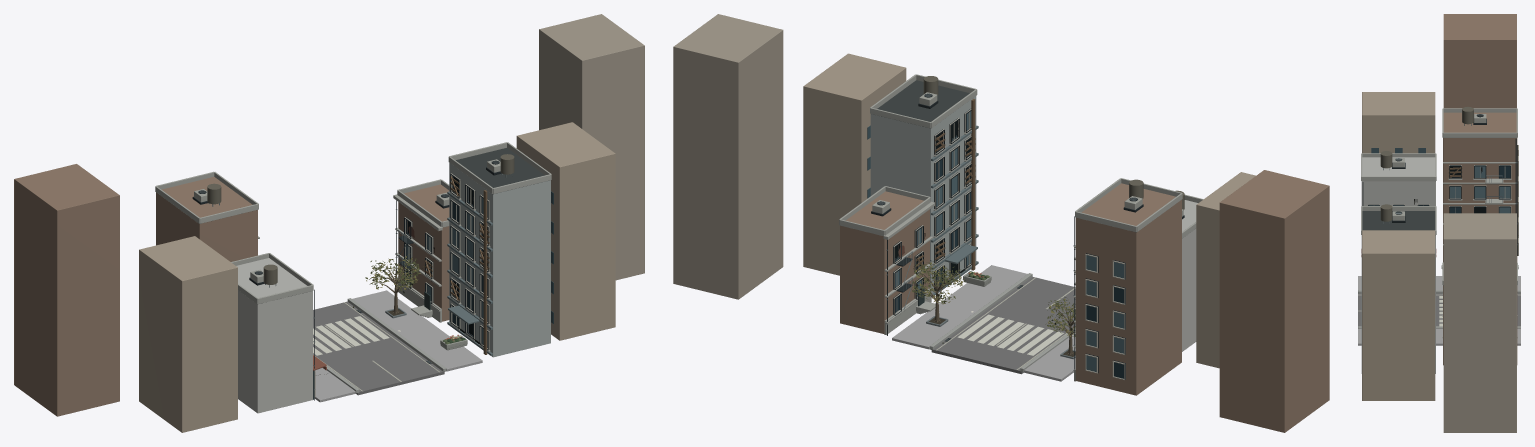
Rendered from city_hd_09.glb.
3 renders of one model, left to right at view 1: azimuth 30°, elevation 25°; view 2: azimuth 150°, elevation 25°; view 3: azimuth 270°, elevation 25°, orthographic. The views are drawn at different scales.
Visible parts, largest first — view 1: CITY_realwall_927d6c, CITY_realwall_a99d8c, CITY_realwall_a49c8e, CITY_realwall_a9b0ae, CITY_realwall_b8b9b4, CITY_trim, CITY_PBR_asphalt, CITY_PBR_pavement, CITY_recess, CITY_frame, CITY_roof, CITY_zebra_paint (+7 smaller); view 2: CITY_realwall_927d6c, CITY_realwall_a49c8e, CITY_realwall_a99d8c, CITY_realwall_a9b0ae, CITY_PBR_asphalt, CITY_trim, CITY_PBR_pavement, CITY_frame, CITY_recess, CITY_glass, CITY_realwall_b8b9b4, CITY_zebra_paint (+7 smaller); view 3: CITY_realwall_a99d8c, CITY_realwall_a49c8e, CITY_realwall_927d6c, CITY_realwall_b8b9b4, CITY_trim, CITY_roof, CITY_glass, CITY_recess, CITY_tank, CITY_frame, CITY_PBR_pavement, CITY_PBR_asphalt (+4 smaller).
Boxes of the visible parts, <box> form: CITY_realwall_927d6c: <box>14,164,449,416</box>; CITY_realwall_a99d8c: <box>139,122,615,432</box>; CITY_realwall_a49c8e: <box>539,14,644,280</box>; CITY_realwall_a9b0ae: <box>449,163,550,357</box>; CITY_realwall_b8b9b4: <box>236,258,312,413</box>; CITY_trim: <box>155,142,551,351</box>; CITY_PBR_asphalt: <box>313,301,444,395</box>; CITY_PBR_pavement: <box>314,290,482,402</box>; CITY_recess: <box>404,173,489,349</box>; CITY_frame: <box>314,173,489,397</box>; CITY_roof: <box>456,148,544,194</box>; CITY_zebra_paint: <box>313,316,389,355</box>; CITY_realwall_927d6c: <box>840,170,1329,432</box>; CITY_realwall_a49c8e: <box>673,14,783,299</box>; CITY_realwall_a99d8c: <box>803,53,1255,368</box>; CITY_realwall_a9b0ae: <box>870,96,976,293</box>; CITY_PBR_asphalt: <box>931,277,1075,374</box>; CITY_trim: <box>839,74,1203,381</box>; CITY_PBR_pavement: <box>892,265,1075,381</box>; CITY_frame: <box>893,109,1125,380</box>; CITY_recess: <box>893,109,1125,379</box>; CITY_glass: <box>892,111,1124,371</box>; CITY_realwall_b8b9b4: <box>1182,200,1197,351</box>; CITY_zebra_paint: <box>957,314,1063,355</box>; CITY_realwall_a99d8c: <box>1362,92,1435,400</box>; CITY_realwall_a49c8e: <box>1443,213,1516,432</box>; CITY_realwall_927d6c: <box>1443,14,1517,365</box>; CITY_realwall_b8b9b4: <box>1361,157,1435,205</box>; CITY_trim: <box>1361,108,1518,337</box>; CITY_roof: <box>1362,211,1443,285</box>; CITY_glass: <box>1368,166,1510,213</box>; CITY_recess: <box>1368,145,1517,255</box>; CITY_tank: <box>1380,107,1473,221</box>; CITY_frame: <box>1368,145,1518,255</box>; CITY_PBR_pavement: <box>1358,276,1520,345</box>; CITY_PBR_asphalt: <box>1358,293,1520,326</box>.
Size of the model in its own units: 56.65 by 21.26 by 16.
